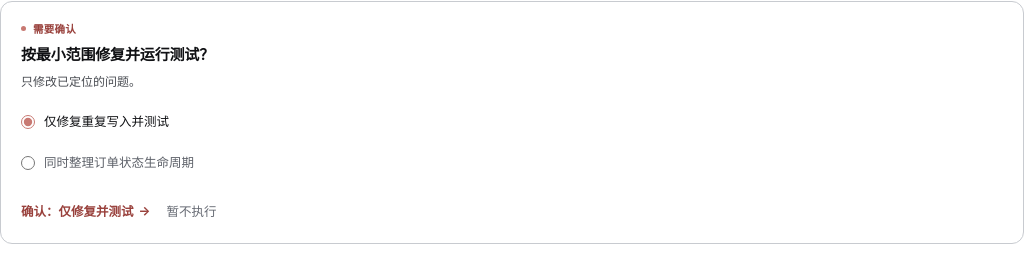
it: QuestionCard Quiet Tool 基准 › 确认文案可随当前选择变化，与基准交互一致
Expected: the button "确认：仅修复并测试 →" is shown, [21,195,150,226]
Click the radio button labelled "同时整理订单状态生命周期" at (28,163), box [21,156,35,170]
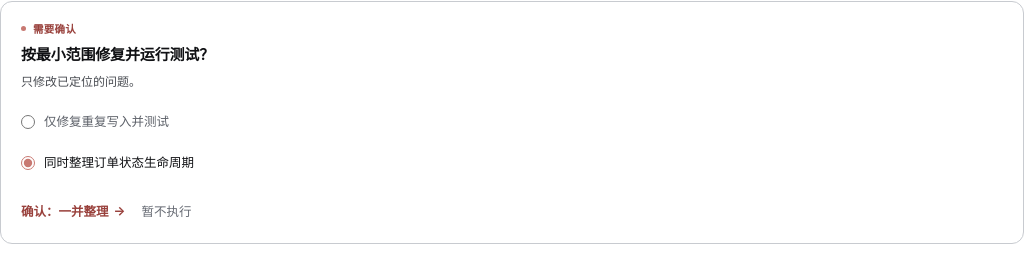
Expected: the button "确认：一并整理 →" is shown, [21,195,126,226]
